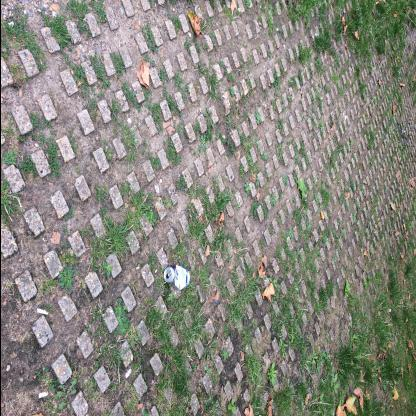metal: (164, 265, 191, 291)
